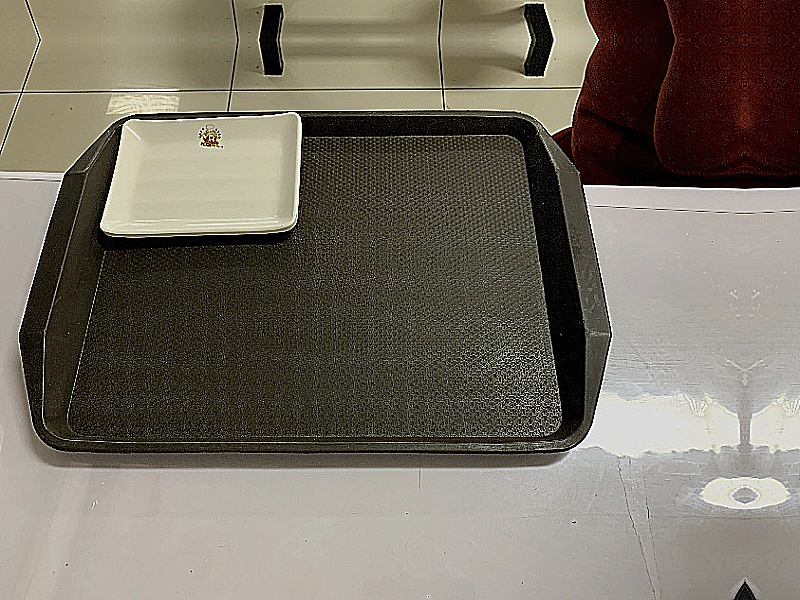dish4: (92, 107, 311, 246)
